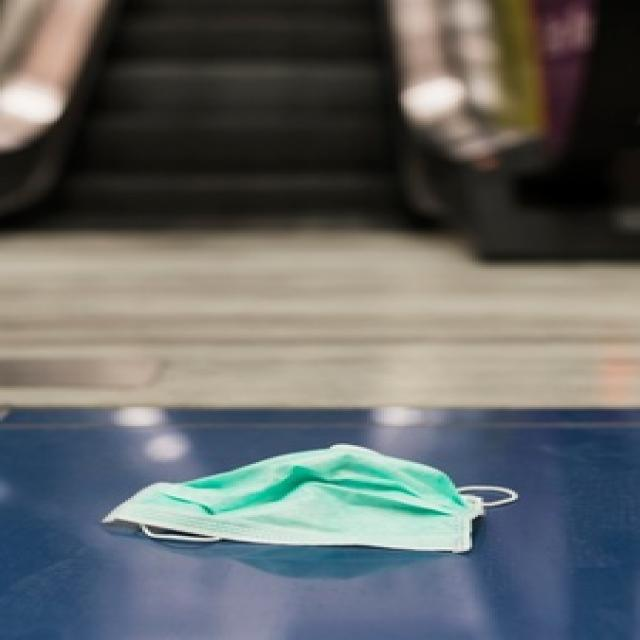non-organic waste: (120, 443, 492, 557)
